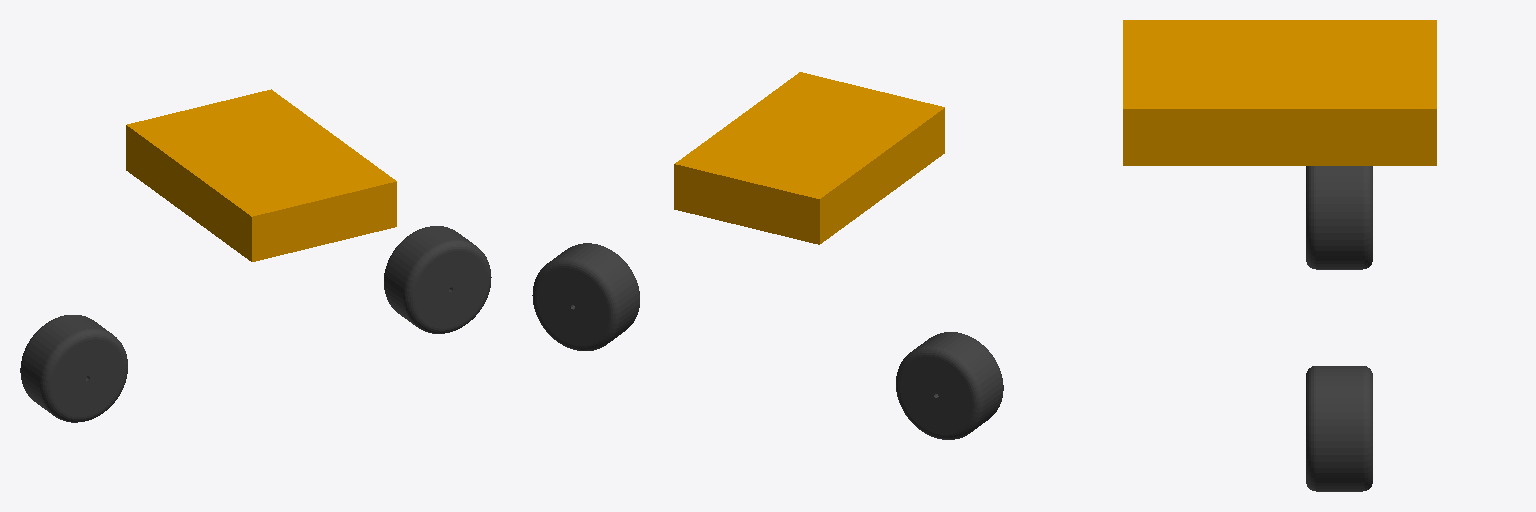
URDF robot description (ForHarryForROSVersB):
<robot
  name="ForHarryForROSVersB">
  <link name="base_link">
        <visual>
          <geometry>
            <box size=" .4   .6 .12"/>
          </geometry>
        </visual>
    </link>
     <joint name="base_to_right_leg" type="fixed">
        <parent link="base_link"/>
        <child link="NotWheels"/>
    </joint>
  <link
    name="NotWheels">
    <inertial>
      <origin
        xyz="0.0392455926196791 -0.278821591054246 -0.0775044581371589"
        rpy="0 0 0" />
      <mass
        value="10.5132080311319" />
      <inertia
        ixx="0.219834599370167"
        ixy="-0.0137292813655773"
        ixz="0.00390845019016002"
        iyy="1.60813882713241"
        iyz="-0.00857682818433677"
        izz="1.72318676277576" />
    </inertial>
    <visual>
      <origin
        xyz="0 0 0"
        rpy="0 0 0" />
      <geometry>
        <mesh
          filename="package://ForHarryForROSVersB/meshes/NotWheels.STL" />
      </geometry>
      <material
        name="">
        <color
          rgba="0.752941176470588 0.752941176470588 0.752941176470588 1" />
      </material>
    </visual>
    <collision>
      <origin
        xyz="0 0 0"
        rpy="0 0 0" />
      <geometry>
        <mesh
          filename="package://ForHarryForROSVersB/meshes/NotWheels.STL" />
      </geometry>
    </collision>
  </link>
  <link
    name="AWheel">
    <inertial>
      <origin
        xyz="-0.064 0 0"
        rpy="0 0 0" />
      <mass
        value="1.86318344508723" />
      <inertia
        ixx="0.0179963942930543"
        ixy="-3.13334528772355E-18"
        ixz="1.91577009765144E-19"
        iyy="0.0131272204160217"
        iyz="-4.93038065763132E-32"
        izz="0.0131272204160217" />
    </inertial>
    <visual>
      <origin
        xyz="0 0 0"
        rpy="0 0 0" />
      <geometry>
        <mesh
          filename="package://ForHarryForROSVersB/meshes/AWheel.STL" />
      </geometry>
      <material
        name="">
        <color
          rgba="0.294117647058824 0.294117647058824 0.294117647058824 1" />
      </material>
    </visual>
    <collision>
      <origin
        xyz="0 0 0"
        rpy="0 0 0" />
      <geometry>
        <mesh
          filename="package://ForHarryForROSVersB/meshes/AWheel.STL" />
      </geometry>
    </collision>
  </link>
  <joint
    name="AAxle"
    type="fixed">
    <origin
      xyz="-0.45037 0.17736 -0.44798"
      rpy="-3.1416 6.123E-17 1.5708" />
    <parent
      link="NotWheels" />
    <child
      link="AWheel" />
    <axis
      xyz="0 0 0" />
  </joint>
  <link
    name="BWheel">
    <inertial>
      <origin
        xyz="-0.0640000000000001 -6.93889390390723E-18 0"
        rpy="0 0 0" />
      <mass
        value="1.86318344508723" />
      <inertia
        ixx="0.0179963942930543"
        ixy="-2.95106269390458E-18"
        ixz="1.91577009765147E-19"
        iyy="0.0131272204160217"
        iyz="-4.93038065763132E-32"
        izz="0.0131272204160217" />
    </inertial>
    <visual>
      <origin
        xyz="0 0 0"
        rpy="0 0 0" />
      <geometry>
        <mesh
          filename="package://ForHarryForROSVersB/meshes/BWheel.STL" />
      </geometry>
      <material
        name="">
        <color
          rgba="0.294117647058824 0.294117647058824 0.294117647058824 1" />
      </material>
    </visual>
    <collision>
      <origin
        xyz="0 0 0"
        rpy="0 0 0" />
      <geometry>
        <mesh
          filename="package://ForHarryForROSVersB/meshes/BWheel.STL" />
      </geometry>
    </collision>
  </link>
  <joint
    name="BAxle"
    type="fixed">
    <origin
      xyz="0.04963 0.17736 -0.44798"
      rpy="-3.1416 6.123E-17 1.5708" />
    <parent
      link="NotWheels" />
    <child
      link="BWheel" />
    <axis
      xyz="0 0 0" />
  </joint>
  <link
    name="CWheel">
    <inertial>
      <origin
        xyz="-0.064 0 0"
        rpy="0 0 0" />
      <mass
        value="1.86318344508723" />
      <inertia
        ixx="0.0179963942930543"
        ixy="-4.80802807486151E-18"
        ixz="1.9157701117815E-19"
        iyy="0.0131272204160217"
        iyz="-2.46519032881566E-32"
        izz="0.0131272204160217" />
    </inertial>
    <visual>
      <origin
        xyz="0 0 0"
        rpy="0 0 0" />
      <geometry>
        <mesh
          filename="package://ForHarryForROSVersB/meshes/CWheel.STL" />
      </geometry>
      <material
        name="">
        <color
          rgba="0.294117647058824 0.294117647058824 0.294117647058824 1" />
      </material>
    </visual>
    <collision>
      <origin
        xyz="0 0 0"
        rpy="0 0 0" />
      <geometry>
        <mesh
          filename="package://ForHarryForROSVersB/meshes/CWheel.STL" />
      </geometry>
    </collision>
  </link>
  <joint
    name="CAxle"
    type="fixed">
    <origin
      xyz="0.55021 0.17736 -0.44798"
      rpy="3.1416 6.123E-17 1.5708" />
    <parent
      link="NotWheels" />
    <child
      link="CWheel" />
    <axis
      xyz="0 0 0" />
  </joint>
</robot>

--- What the picture shows (computed from the rendered views, not written in the file) ---
3 views of the same robot in one strip: view 1: azimuth 30°, elevation 25°; view 2: azimuth 150°, elevation 25°; view 3: azimuth 270°, elevation 25° (orthographic).
Model ForHarryForROSVersB with 5 links and 4 joints (4 fixed), rooted at base_link, posed every joint at zero.
Visible links, largest first — view 1: base_link, AWheel, CWheel; view 2: base_link, AWheel, CWheel; view 3: base_link, CWheel, AWheel.
Link boxes in pixels (<box>): base_link: <box>126,89,396,261</box>; AWheel: <box>20,315,127,422</box>; CWheel: <box>384,226,491,333</box>; base_link: <box>674,72,944,244</box>; AWheel: <box>896,332,1003,439</box>; CWheel: <box>532,243,639,350</box>; base_link: <box>1123,20,1436,165</box>; CWheel: <box>1306,366,1372,491</box>; AWheel: <box>1306,166,1372,269</box>.
Size in the robot's own frame: 1.24 by 0.6 by 0.6279 metres.
2 mesh visuals loaded from 4 distinct referenced files (2 binary STL); not drawn: 2 (reference not matched to a file when rendering).
